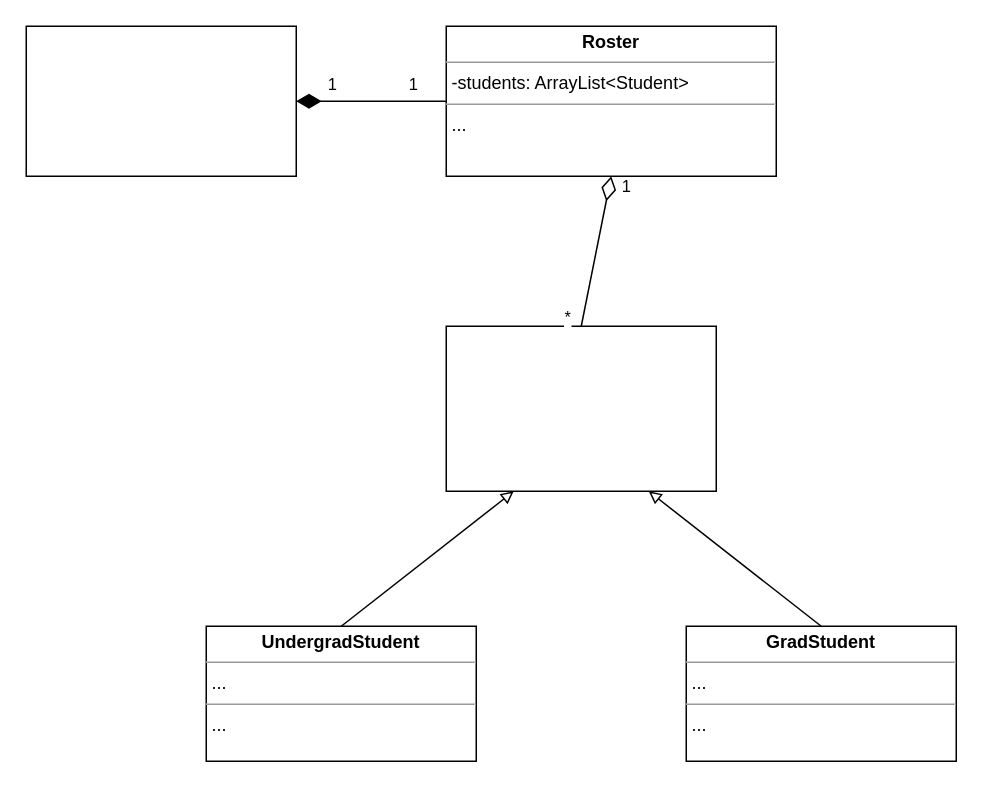
Some shapes in this 983 by 788 pixel diagram are drawn without their labels. The shapes that lost their labels are listed below. From the top down, each one's centre as x and y in pixels, then its label:
point (160, 100): Course -roster: Roster ...
point (580, 408): Student -name: String -id: int ...
